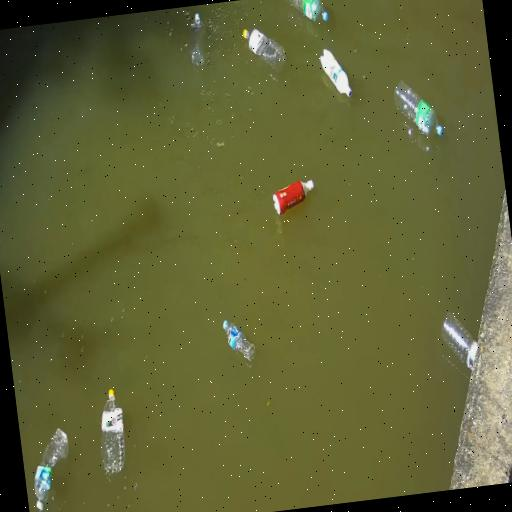plastic: (35, 428, 69, 511), (395, 81, 443, 136), (101, 389, 125, 481), (442, 313, 478, 370), (243, 29, 285, 71), (320, 49, 352, 96), (223, 321, 255, 366), (273, 180, 314, 215), (190, 13, 206, 69)
